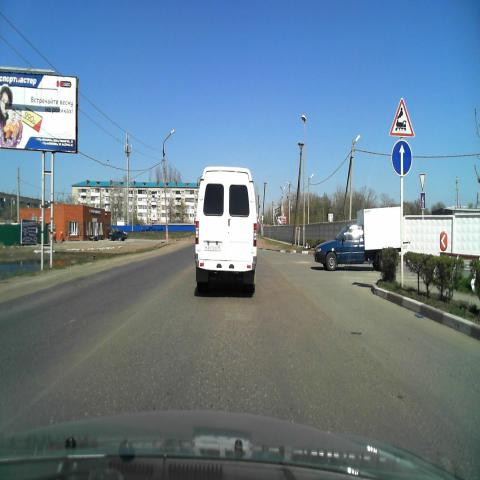4_1_1: (392, 139, 412, 177)
